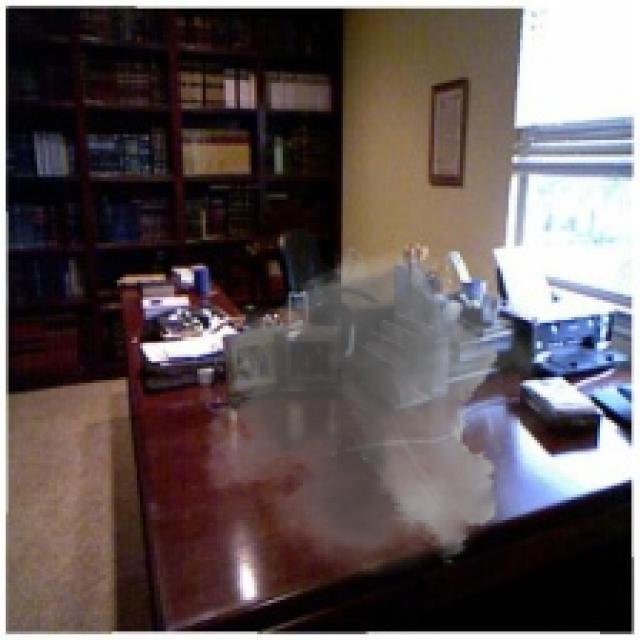smoke: (186, 234, 577, 577)
